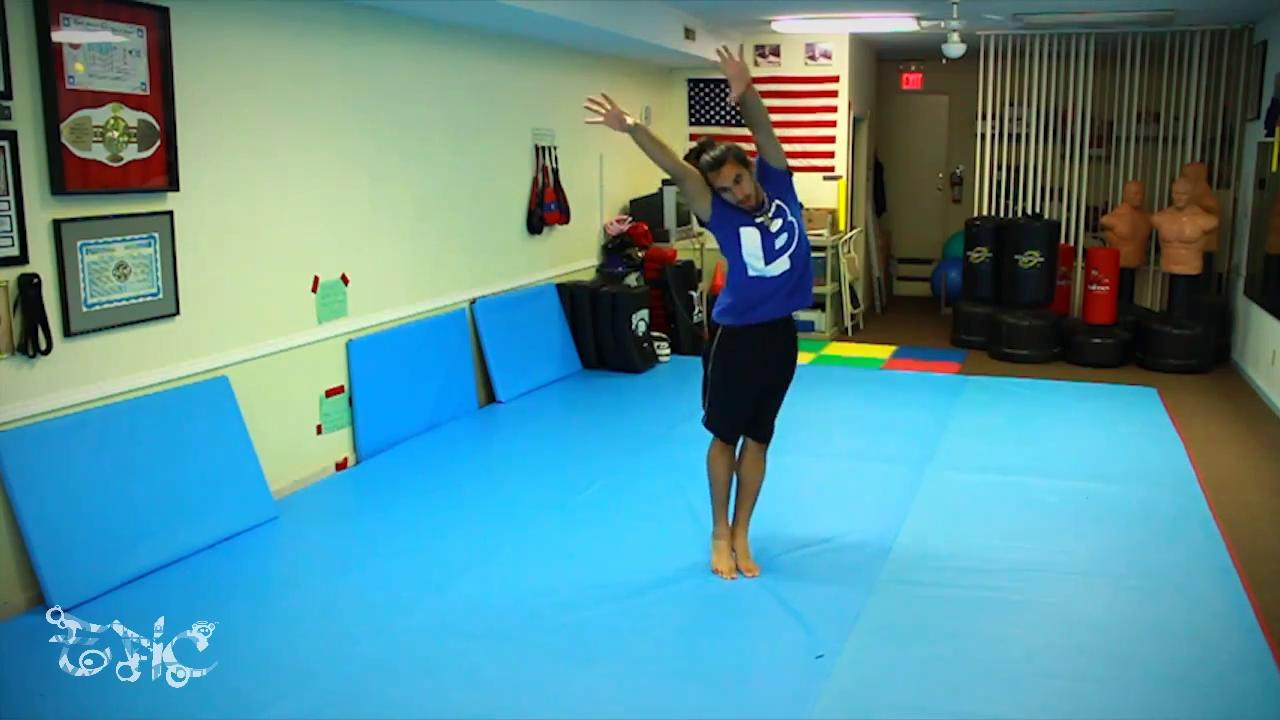victim: (577, 37, 819, 585)
